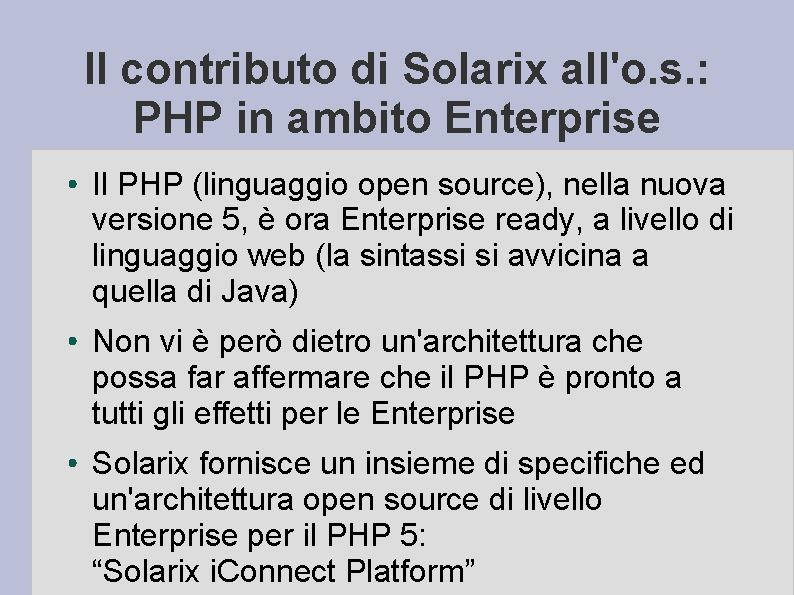paragraph: (56, 159, 763, 595)
title: (64, 23, 717, 147)
